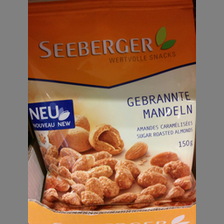nuts: (28, 1, 196, 212)
